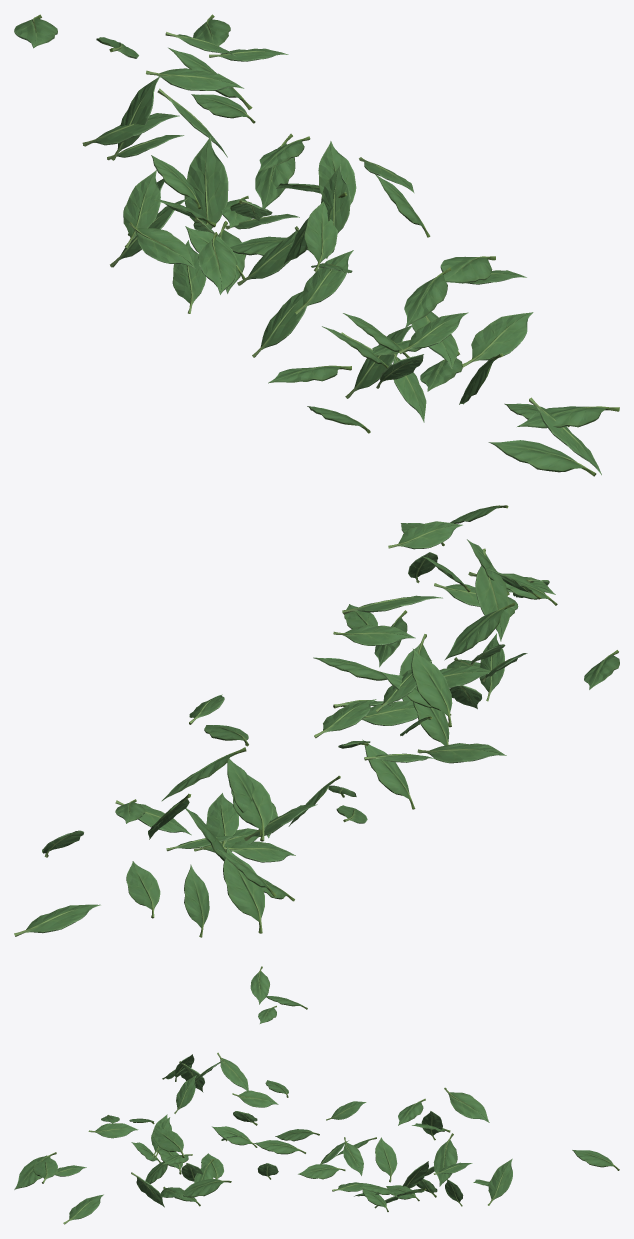
Rendered from holy_canopy11_complete.glb.
3 views of the same model, one above another, from view 1: azimuth 30°, elevation 25°; view 2: azimuth 150°, elevation 25°; view 3: azimuth 270°, elevation 25° (orthographic). The views are drawn at different scales.
Visible parts, largest first — view 1: holy_canopy11; view 2: holy_canopy11; view 3: holy_canopy11.
Part boxes in pixels (x1,y1,x2,y2): holy_canopy11: [14, 14, 619, 476]; holy_canopy11: [14, 505, 619, 937]; holy_canopy11: [14, 966, 619, 1224].
Bounding box in the file's own units: 8.82 × 11.04 × 29.07.
Materials: 1 (1 with a texture image).
